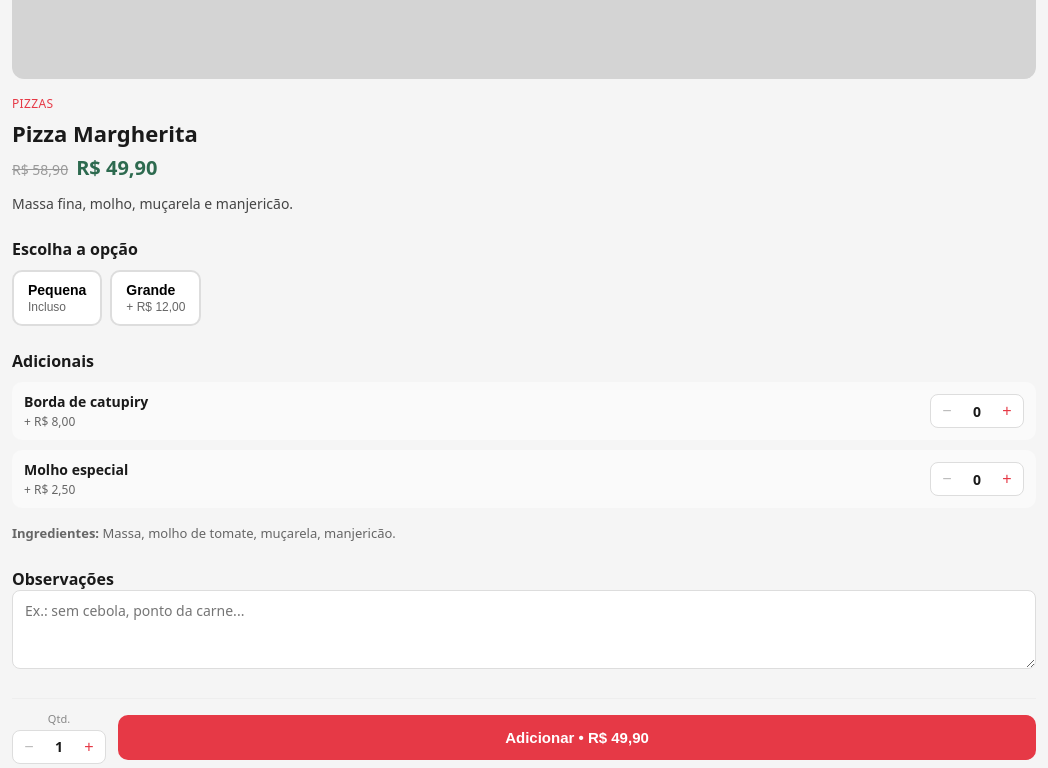
Test case: ProductDetail › includes observacoes in cart item when submitting
The width and height of the screenshot is (1048, 768).
(page scrolled)
Check: the heading "Pizza Margherita" is shown, box [12, 118, 198, 148]
In the text box with placeholder "Ex.: sem cebola, ponto da carne...": coordinates (524, 629) [12, 590, 1036, 669], type "Sem muçarela"
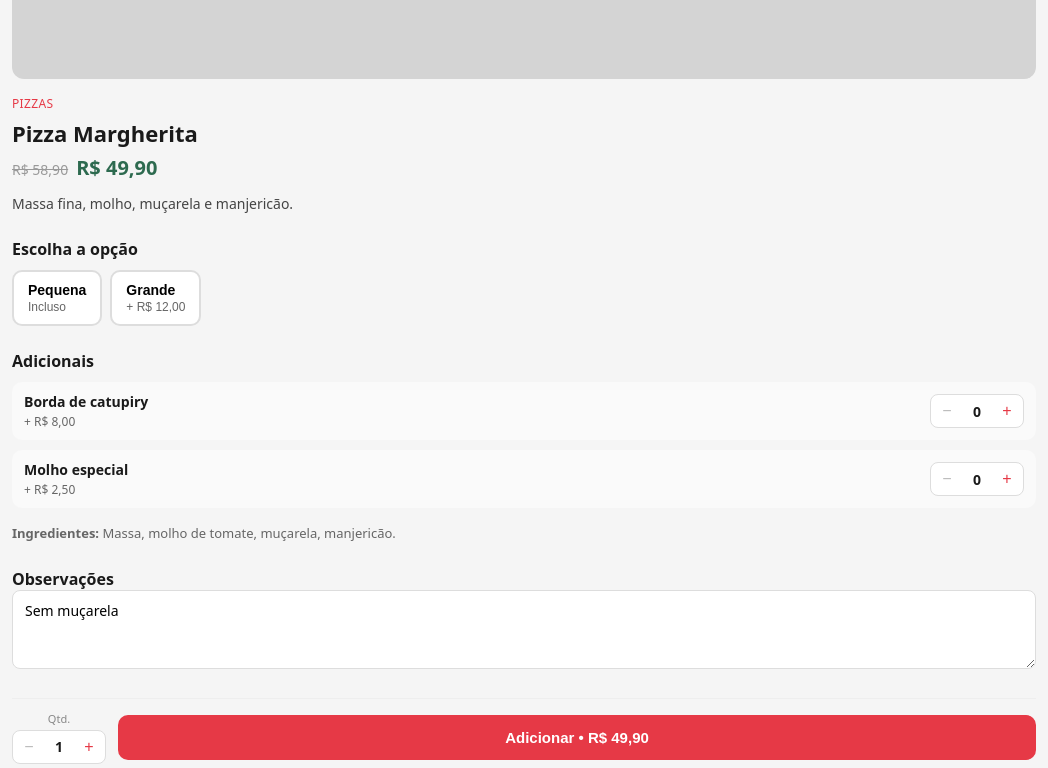
Click the button "Adicionar • R$ 49,90": coordinates (577, 737) [118, 715, 1036, 760]
(page scrolled)
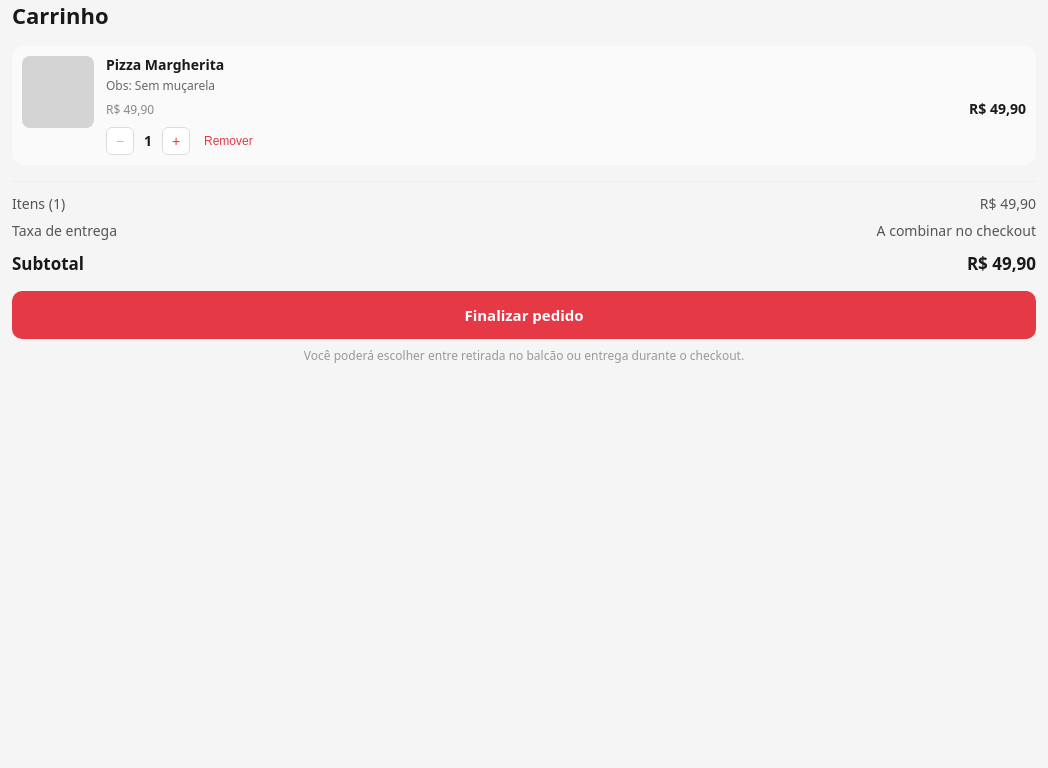
Check: the link "Finalizar pedido" is shown, box [12, 290, 1036, 338]
Check: the text "Obs: Sem muçarela" is shown, box [106, 76, 215, 94]
